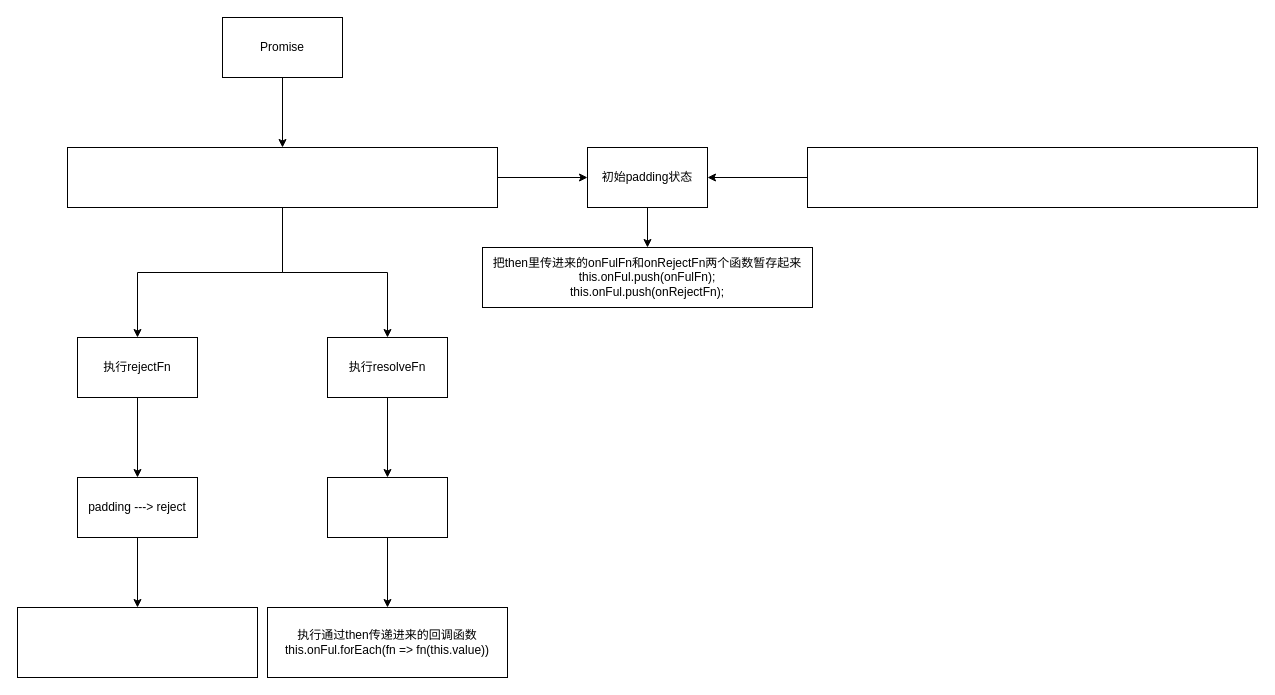
Image size: 1275x695. Some labels were removed from this diagram. The shapes that lost their labels are listed below. From the top down, each one's box as (x1, y1, x2, y2) in pixels, then its label:
(66, 146, 498, 208): new Promise((resolveFn: () => void, rejectFn: () => void) => void)
(806, 146, 1258, 208): 执行 then(onFulFn: (resolveValue) => void, onRejectFn: (rejectValue) => void) 函数
(326, 476, 448, 538): padding ---> resolve
(16, 606, 258, 678): 执行通过then传递进来的回调函数 this.onReject.forEach(fn => fn(error))
